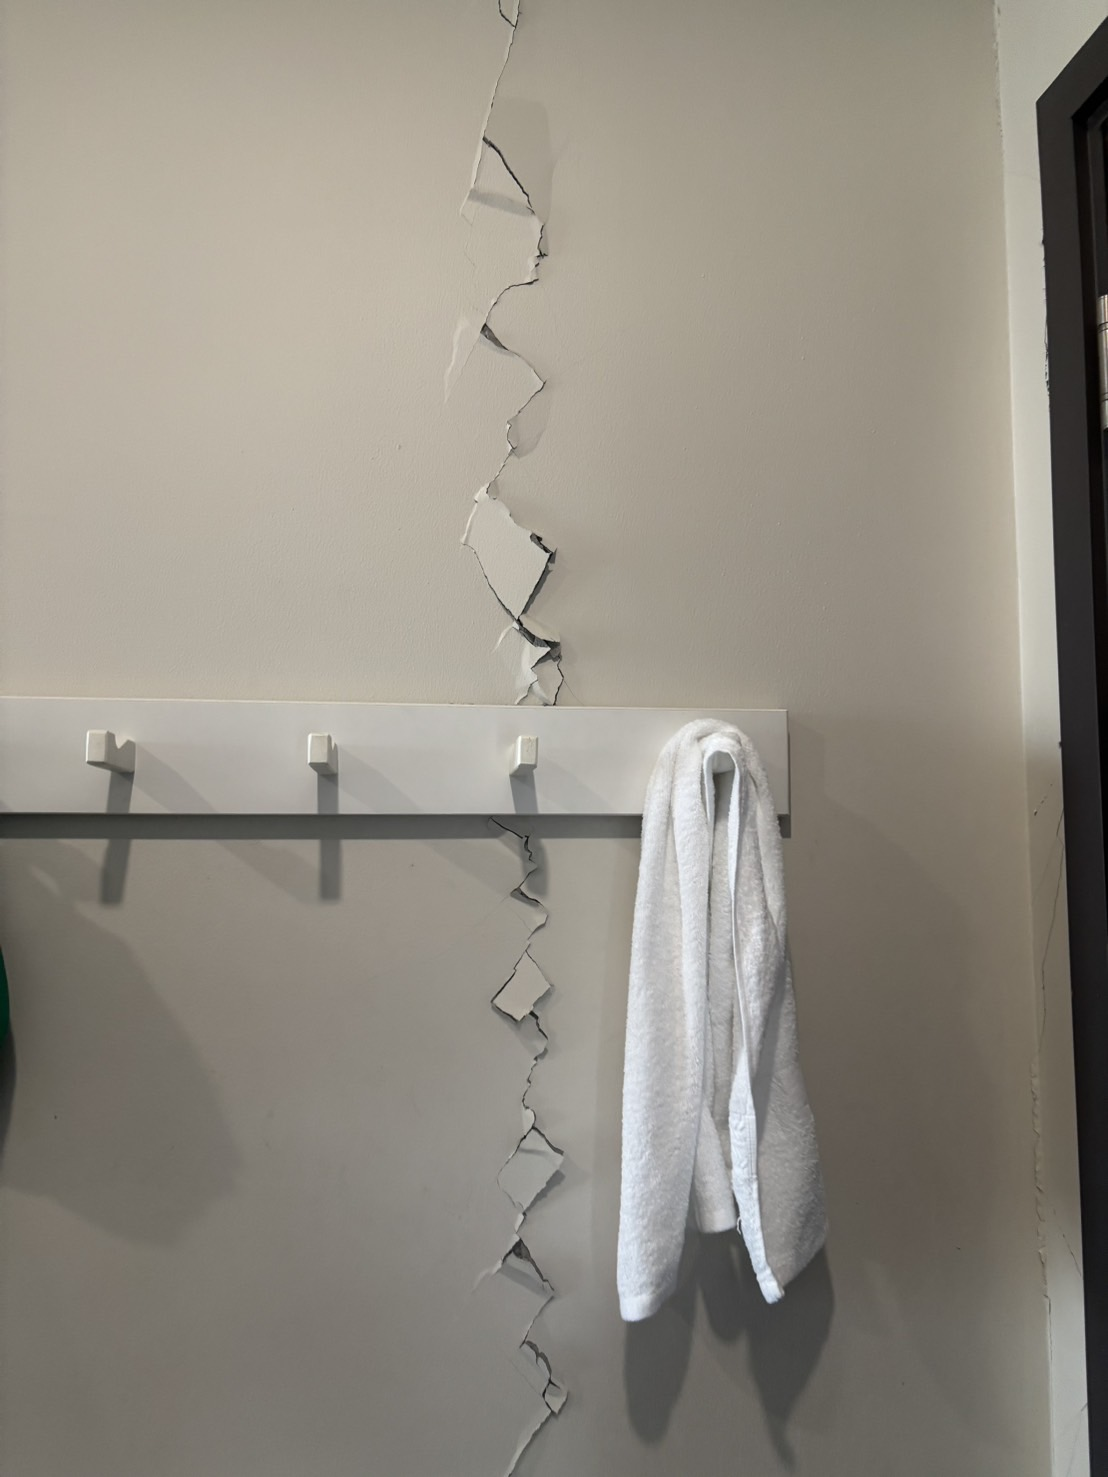Medium: (360, 57, 680, 695)
